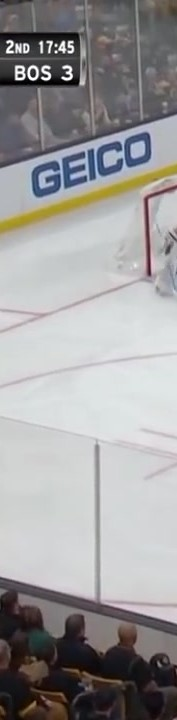Geico: (26, 125, 167, 202)
